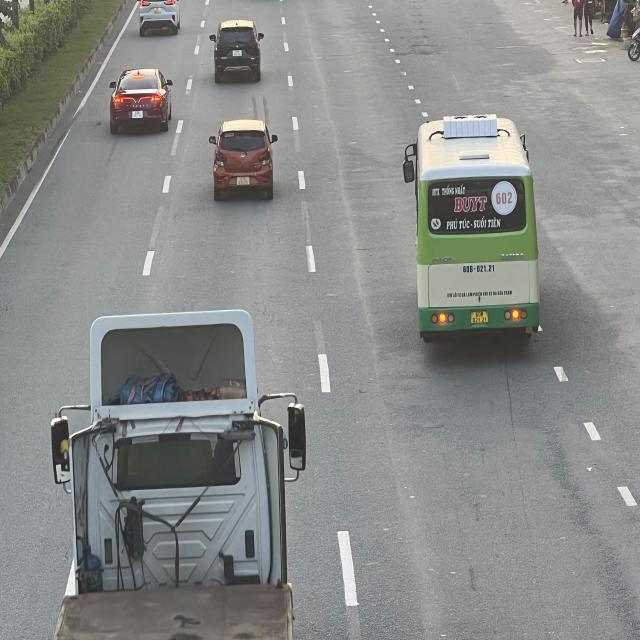car: (210, 120, 276, 199), (110, 68, 175, 134), (209, 16, 263, 80), (136, 1, 181, 37)
coach: (402, 111, 534, 338)
container: (50, 312, 304, 639)
